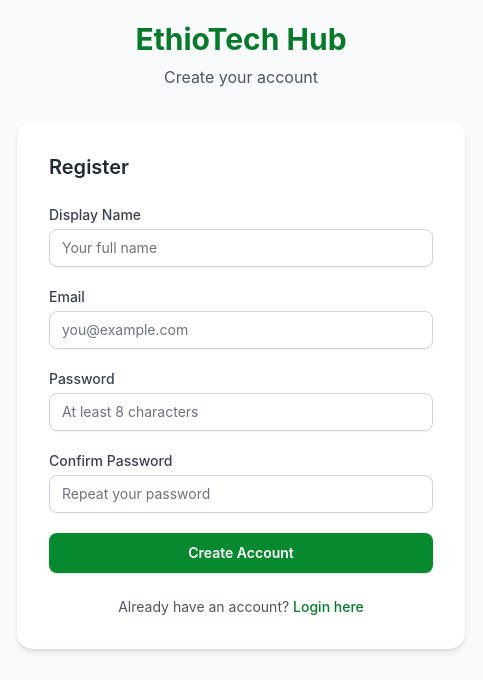
it: RegisterPage › shows error when passwords do not match
Type "Test User" into the field labelled "Display Name" at [241, 248], box [49,229,433,267]
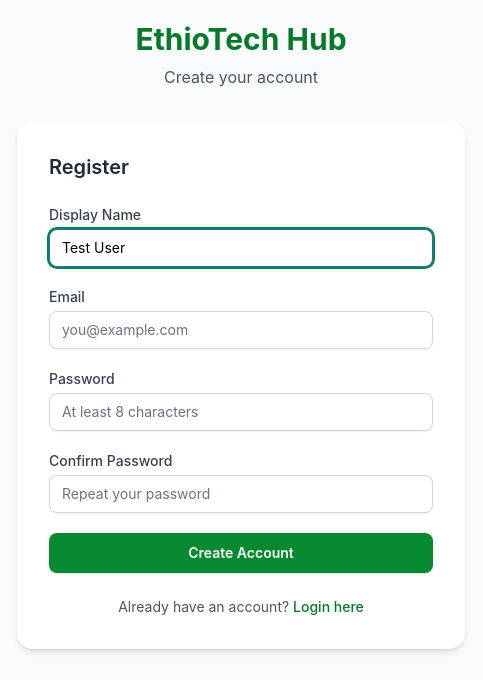
Type "test@example.com" into the field labelled "Email" at [241, 330], box [49,311,433,349]
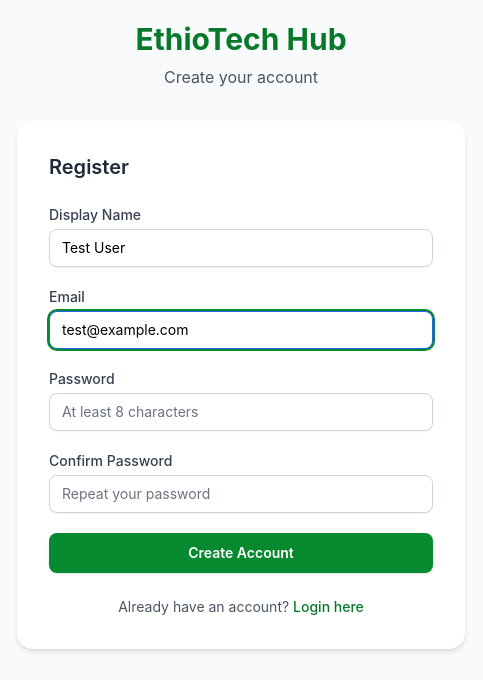
Type "password123" into the password field labelled "Password" at [241, 412], box [49,393,433,431]
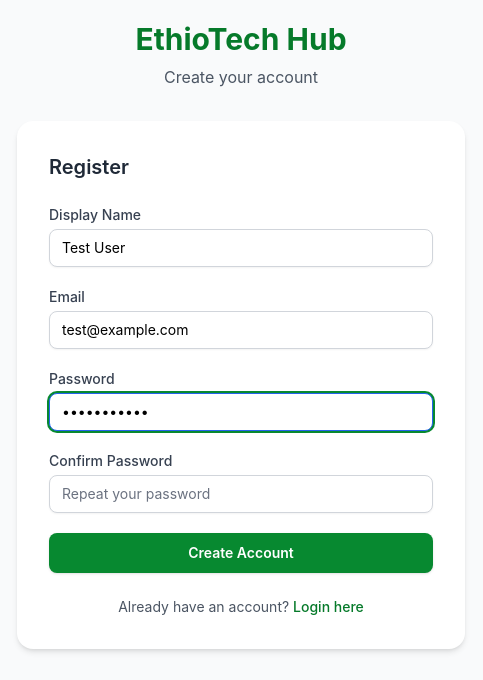
Type "different123" into the password field labelled "Confirm Password" at [241, 494], box [49,475,433,513]
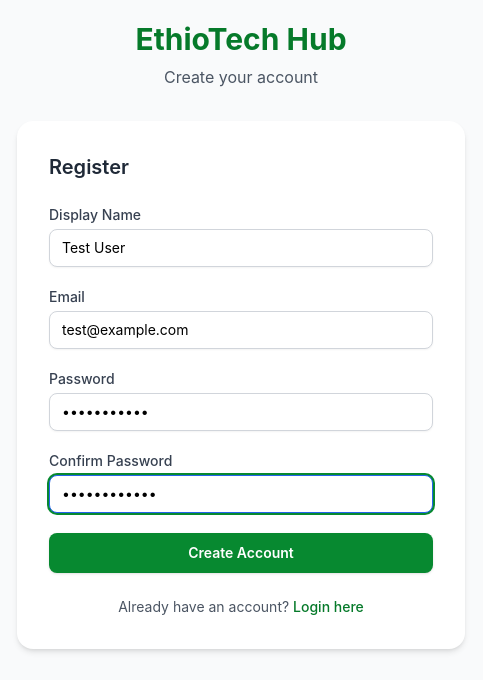
Click the button "Create Account" at [241, 553], box [49,533,433,573]
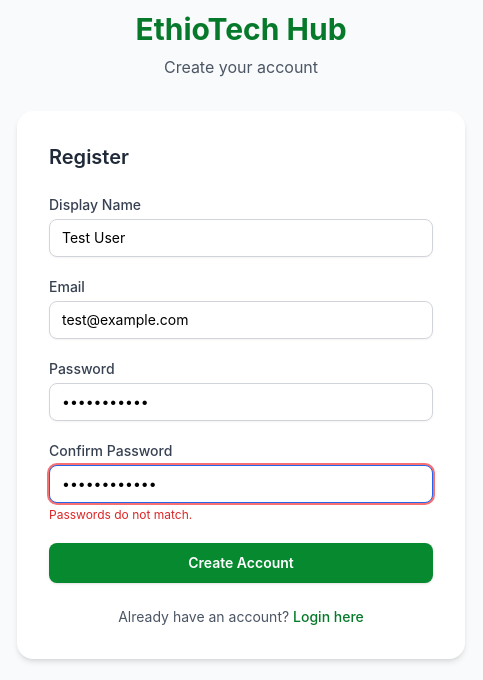
Expected: the text "Passwords do not match." is shown, [49,507,192,522]
